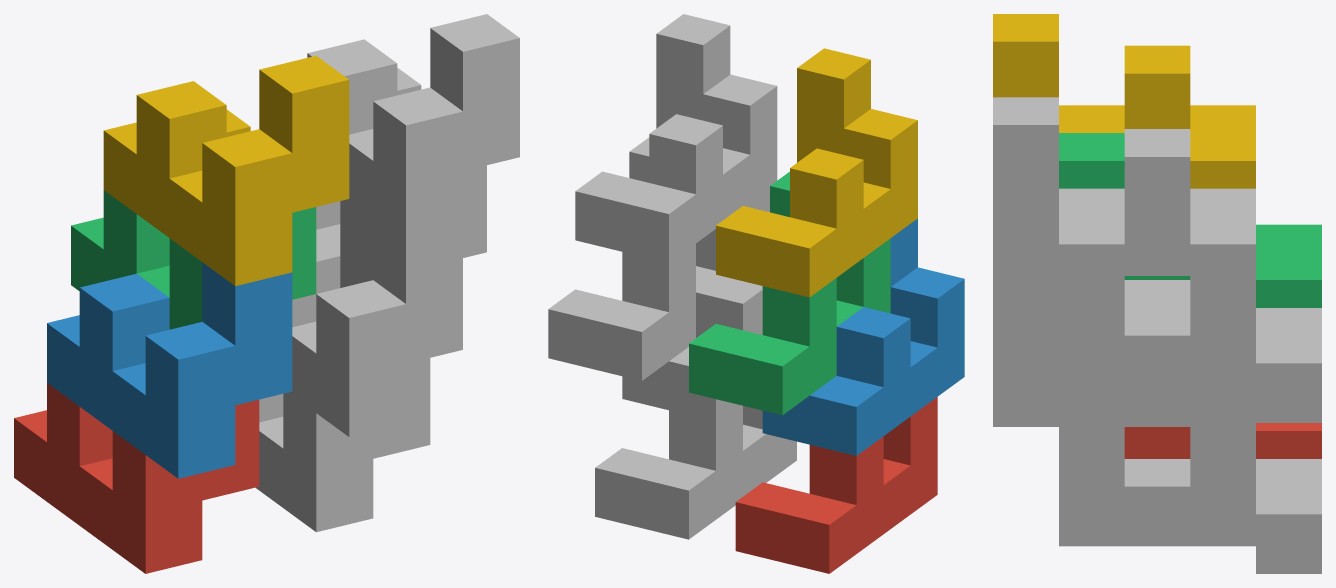
The model's file is tiling.obj.
3 views of the same model, side by side, from view 1: azimuth 30°, elevation 25°; view 2: azimuth 150°, elevation 25°; view 3: azimuth 270°, elevation 25° (orthographic). The views are drawn at different scales.
Visible parts, largest first — view 1: copy_1_domain_4, copy_1_domain_2, copy_1_domain_8, copy_1_domain_6, copy_1_domain_1, copy_1_domain_5, copy_1_domain_3, copy_1_domain_7; view 2: copy_1_domain_8, copy_1_domain_4, copy_1_domain_2, copy_1_domain_1, copy_1_domain_3, copy_1_domain_5, copy_1_domain_7, copy_1_domain_6; view 3: copy_1_domain_7, copy_1_domain_8, copy_1_domain_5, copy_1_domain_4, copy_1_domain_6, copy_1_domain_3, copy_1_domain_1.
Boxes of the visible parts, x1,y1,x2,y2 form: copy_1_domain_4: (103,55,349,285); copy_1_domain_2: (47,262,292,478); copy_1_domain_8: (307,14,519,244); copy_1_domain_6: (288,221,462,436); copy_1_domain_1: (14,383,259,573); copy_1_domain_5: (255,358,430,532); copy_1_domain_3: (71,190,316,329); copy_1_domain_7: (316,165,486,287); copy_1_domain_8: (575,14,777,262); copy_1_domain_4: (716,48,917,297); copy_1_domain_2: (762,218,964,455); copy_1_domain_1: (735,397,937,573); copy_1_domain_3: (689,171,890,415); copy_1_domain_5: (595,405,796,539); copy_1_domain_7: (548,137,750,380); copy_1_domain_6: (622,189,769,421); copy_1_domain_7: (1059,216,1321,422); copy_1_domain_8: (993,97,1255,303); copy_1_domain_5: (1059,395,1321,573); copy_1_domain_4: (993,14,1255,188); copy_1_domain_6: (993,276,1255,454); copy_1_domain_3: (1059,133,1321,307); copy_1_domain_1: (1124,423,1321,458).
Bounding box in the file's own units: 6 × 8 × 5.
